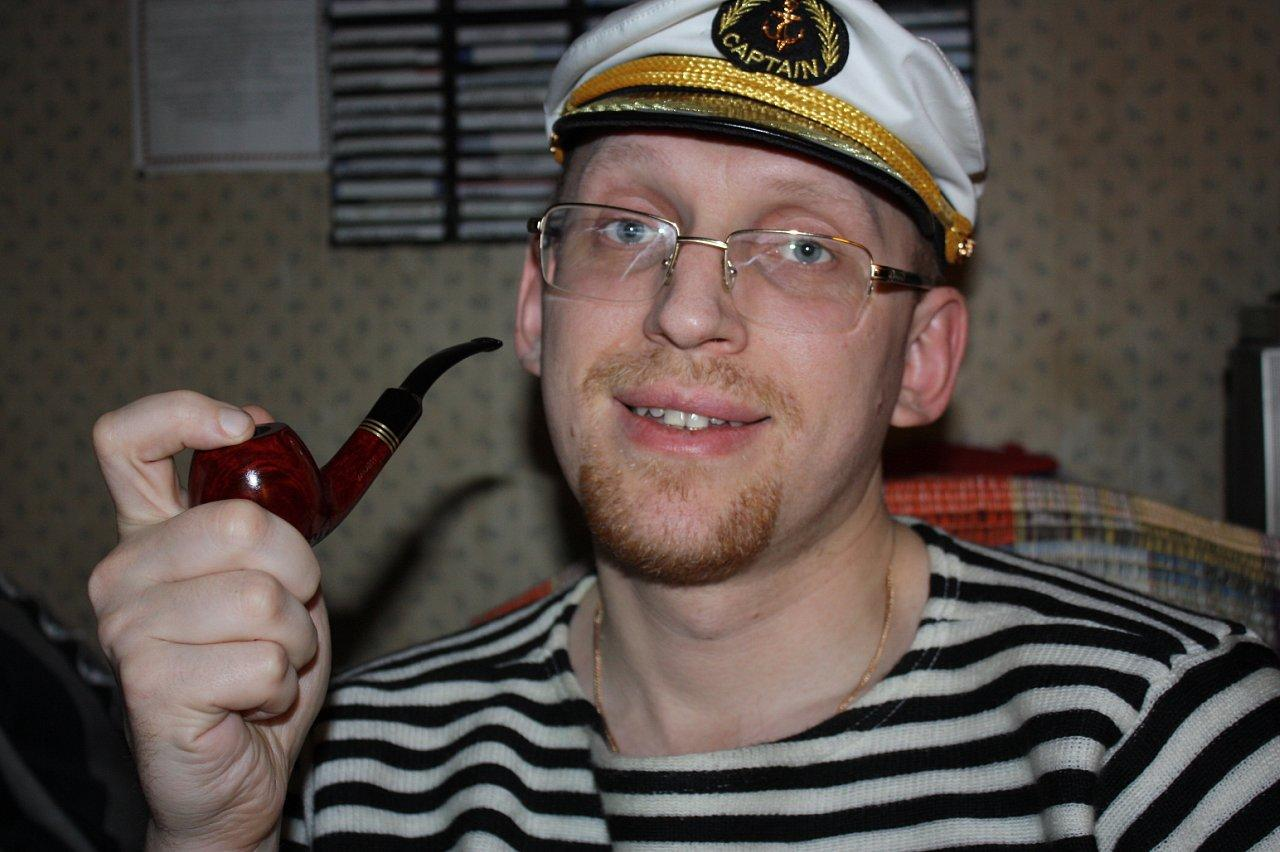trubka: (189, 338, 501, 545)
